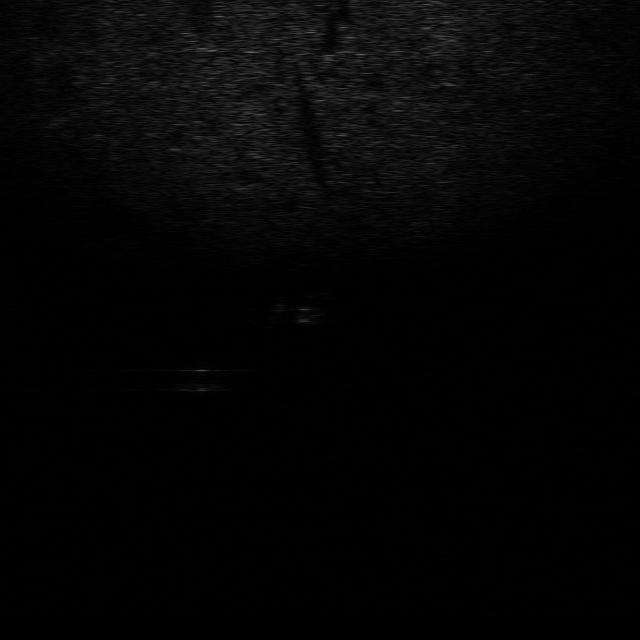ball: (165, 363, 225, 394)
human body: (261, 292, 331, 328)
